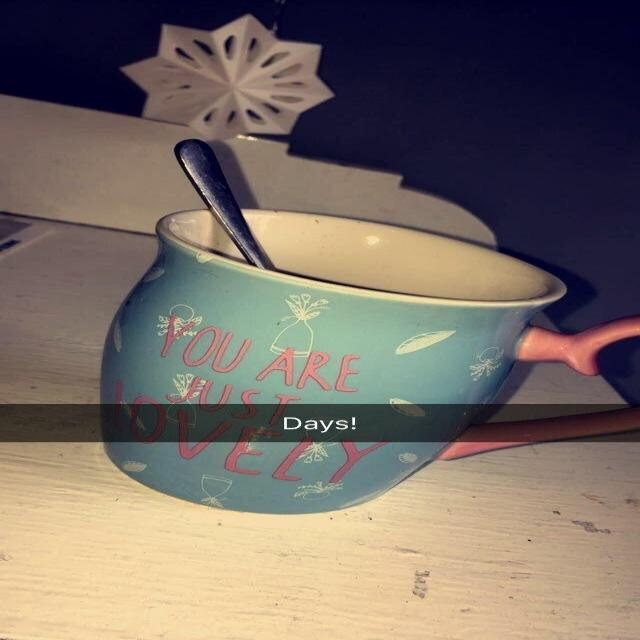cup-handle: (94, 204, 639, 516)
